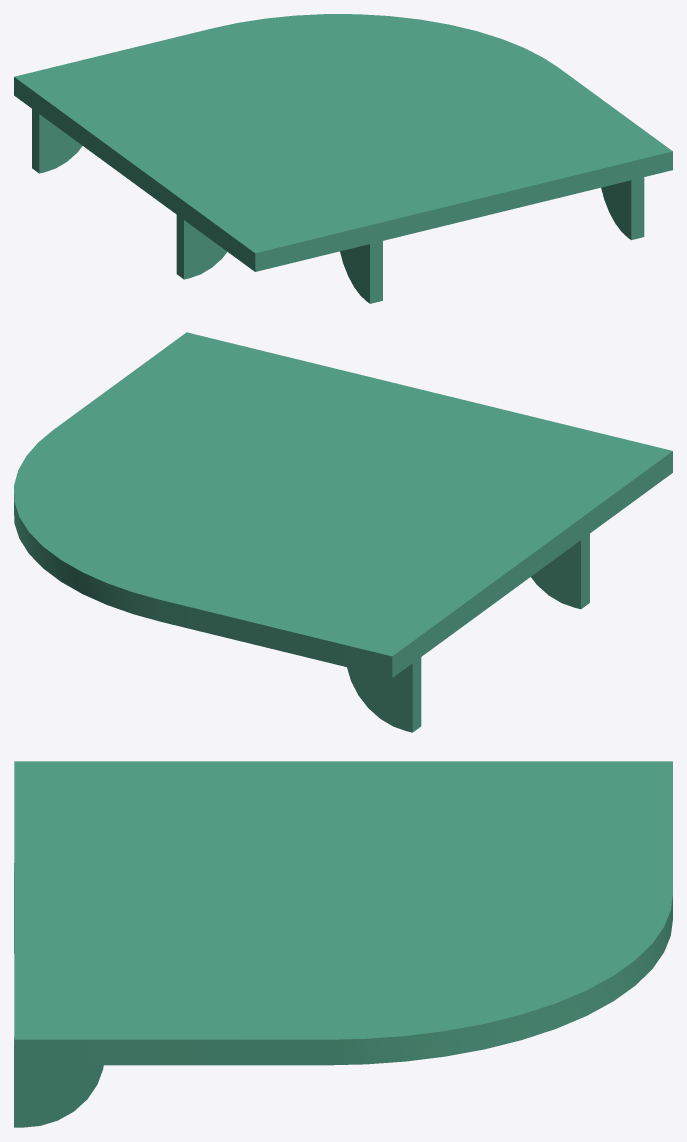
Rendered from Shelf.fbx.
3 views of the same model, one above another, from view 1: azimuth 30°, elevation 25°; view 2: azimuth 150°, elevation 25°; view 3: azimuth 270°, elevation 25° (orthographic). The views are drawn at different scales.
Parts seen in each view (by area): view 1: Cube_4; view 2: Cube_4; view 3: Cube_4.
Part boxes in pixels (x1,y1,x2,y2): Cube_4: (14,14,672,303); Cube_4: (14,332,672,732); Cube_4: (14,761,672,1127).
Bounding box in the file's own units: 200 × 35.91 × 200.
